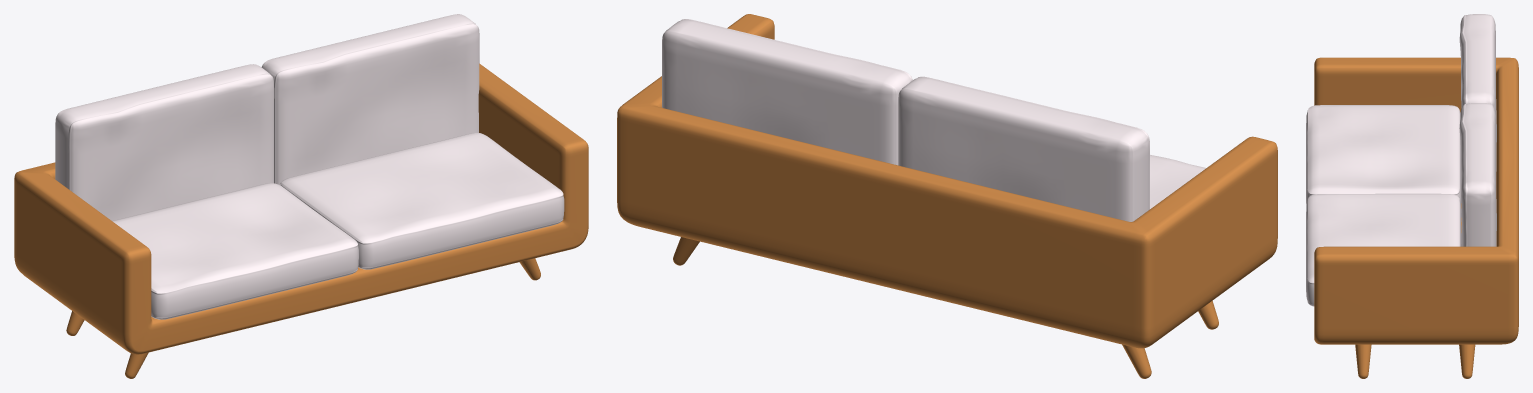
The model's file is YELLOW-SOFA.glb.
3 renders of one model, left to right at view 1: azimuth 30°, elevation 25°; view 2: azimuth 150°, elevation 25°; view 3: azimuth 270°, elevation 25°, orthographic. The views are drawn at different scales.
Visible parts, largest first — view 1: icons8_yellow_sofa; view 2: icons8_yellow_sofa; view 3: icons8_yellow_sofa.
Boxes of the visible parts, x1,y1,x2,y2 form: icons8_yellow_sofa: [14, 14, 588, 378]; icons8_yellow_sofa: [617, 14, 1277, 378]; icons8_yellow_sofa: [1306, 14, 1518, 378].
Size of the model in its own units: 2.36 by 1.05 by 1.06.
1 material, 1 textured.
